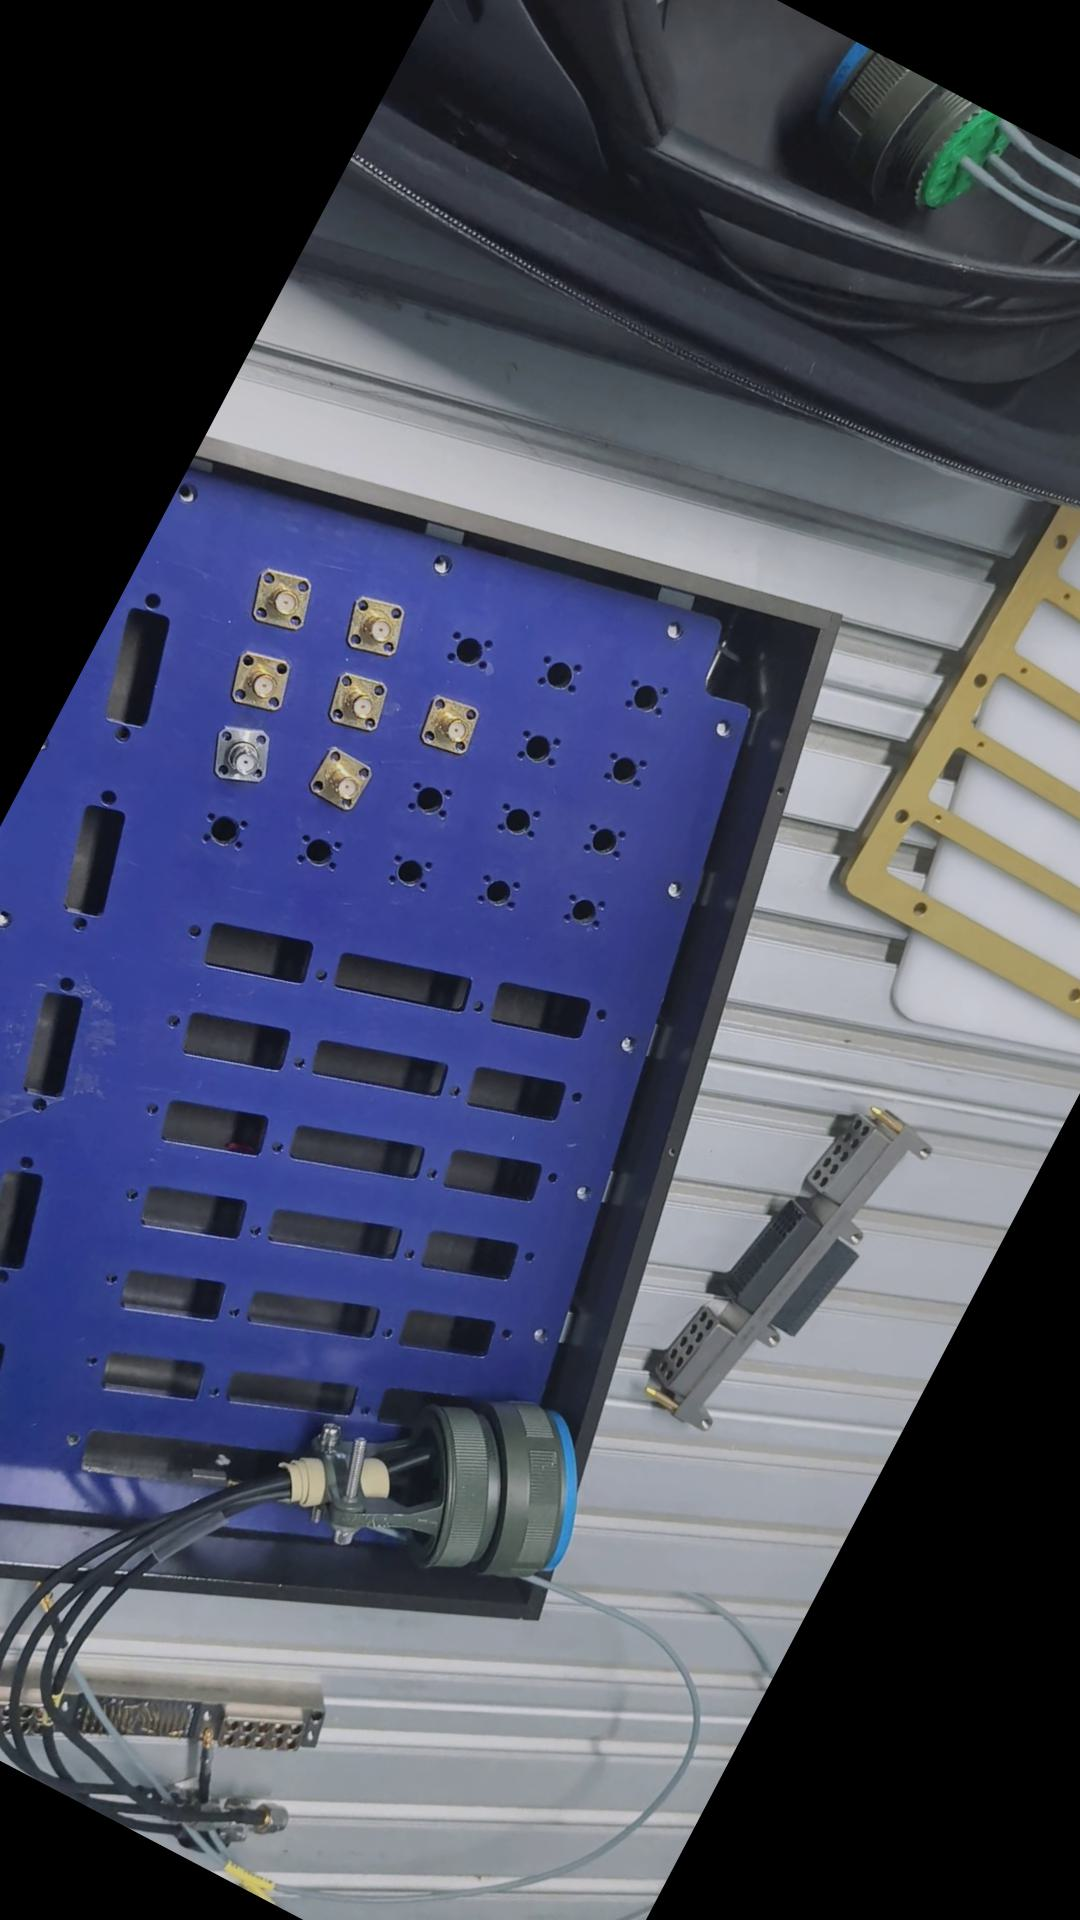SMA: (240, 556, 328, 642), (334, 585, 422, 671), (302, 738, 388, 824), (220, 646, 302, 727), (411, 684, 495, 764), (206, 715, 284, 793), (322, 667, 398, 742)
